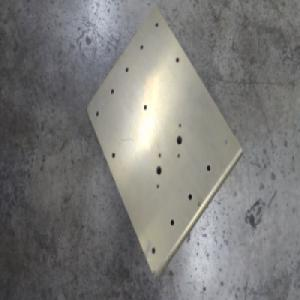MetalSheet: (85, 6, 243, 281)
